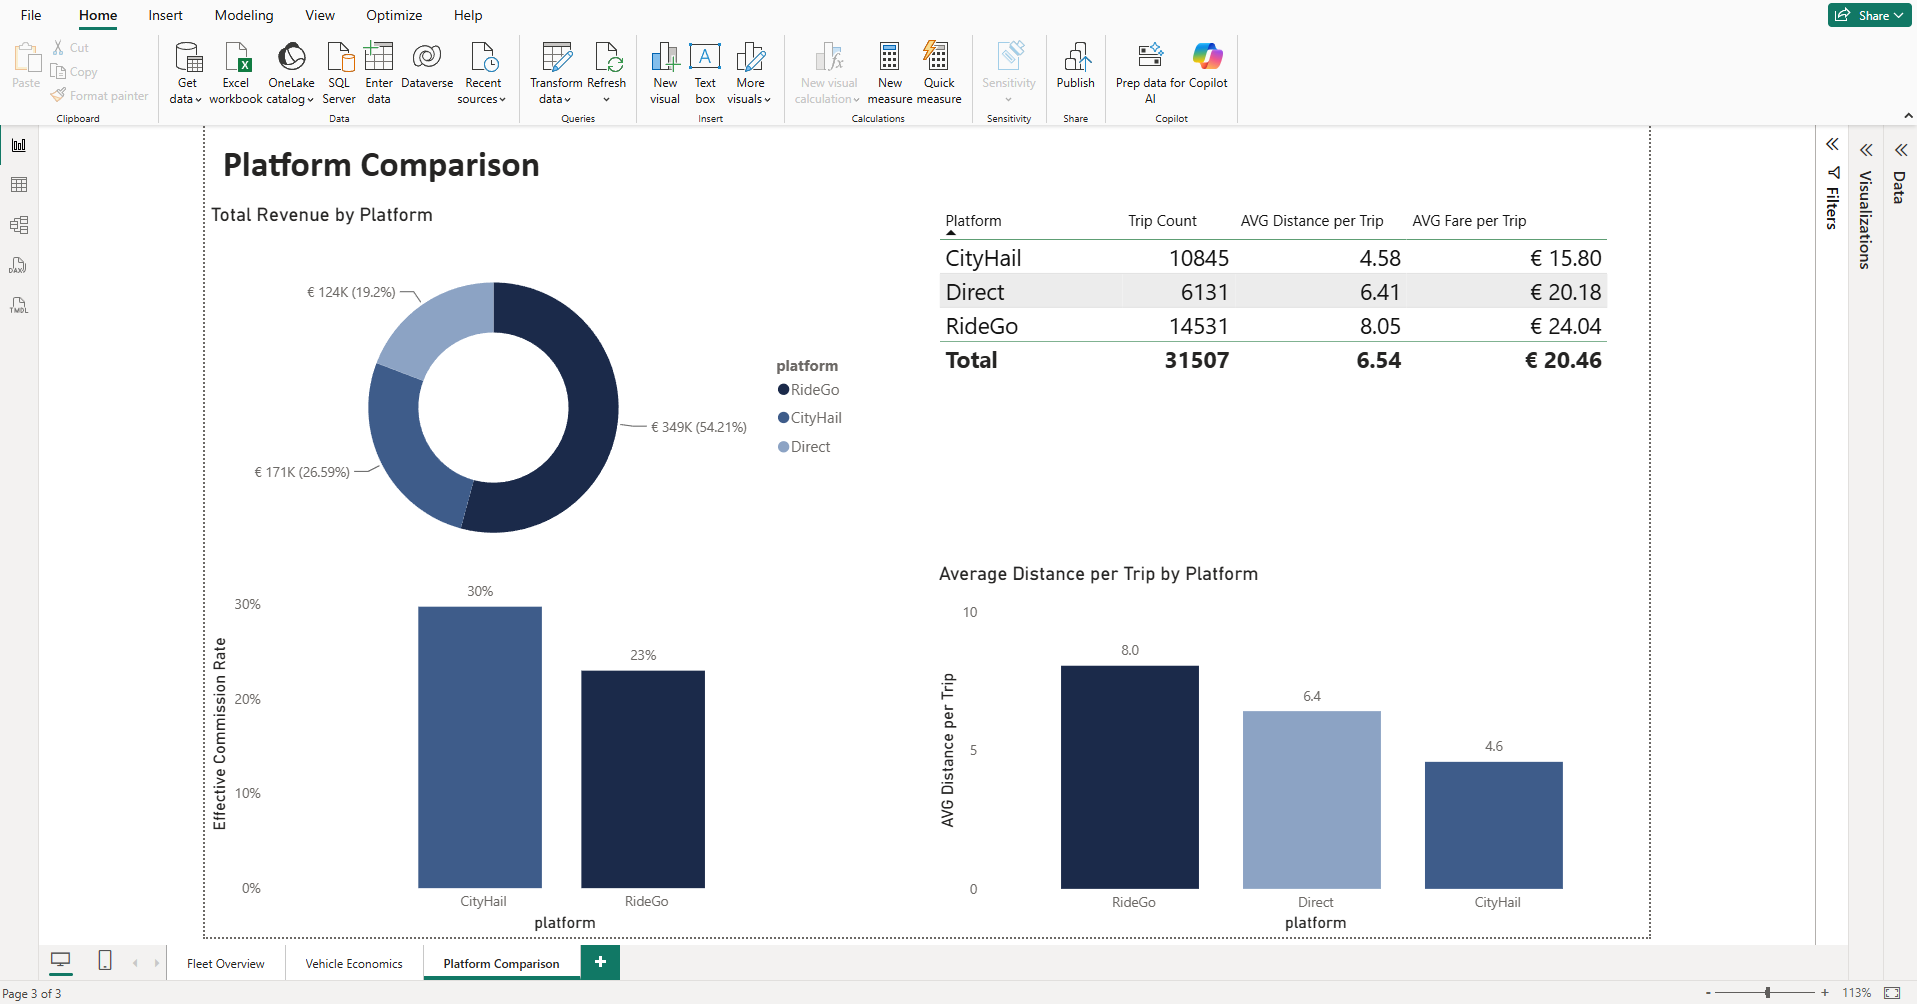

The dashboard page shown, as its layout file describes it:
{"tool":"powerbi","page":{"name":"Platform Comparison","canvas":[1280,720],"ordinal":2},"visuals":[{"type":"clusteredColumnChart","title":"Effective Commission Rate by Platform","fields":{"Category":["Platform Payouts.platform"],"Y":["_Measures.Effective Commission Rate"]},"box":[0,359.6,584.5,360.6],"z":0},{"type":"donutChart","title":"Total Revenue by Platform","fields":{"Category":["Trips.platform"],"Y":["_Measures.Total Revenue"]},"box":[0,68.8,584.5,332.8],"z":1},{"type":"clusteredColumnChart","title":"Average Distance per Trip by Platform","fields":{"Category":["Trips.platform"],"Y":["_Measures.AVG Distance per Trip"]},"box":[645.1,387.3,634.9,332.8],"z":2},{"type":"textbox","box":[10.3,10.3,1269.7,58.8],"z":3},{"type":"tableEx","fields":{"Values":["Trips.platform","_Measures.Trip Count","_Measures.AVG Distance per Trip","_Measures.AVG Fare per Trip"]},"box":[645.1,68.8,634.9,237.3],"z":4}]}

Visuals, with their boxes on the page's 1280x720 design canvas (x1, y1, x2, y2). These are canvas units, not pixel positions in the 1917x1004 screenshot, which may show the page scaled, cropped or inside an application window:
"Effective Commission Rate by Platform" clusteredColumnChart: {"left": 0, "top": 360, "right": 584, "bottom": 720}
"Total Revenue by Platform" donutChart: {"left": 0, "top": 69, "right": 584, "bottom": 402}
"Average Distance per Trip by Platform" clusteredColumnChart: {"left": 645, "top": 387, "right": 1280, "bottom": 720}
textbox: {"left": 10, "top": 10, "right": 1280, "bottom": 69}
tableEx - Trips.platform x _Measures.Trip Count: {"left": 645, "top": 69, "right": 1280, "bottom": 306}
